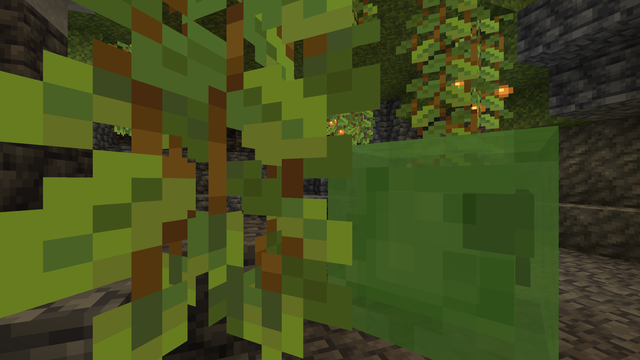slimes: (330, 116, 600, 355)
